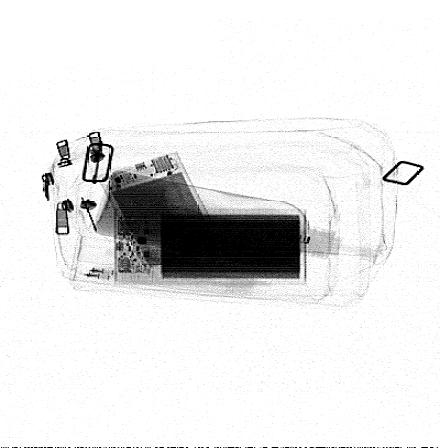Powerbank: (97, 150, 223, 273), (113, 210, 307, 285)
